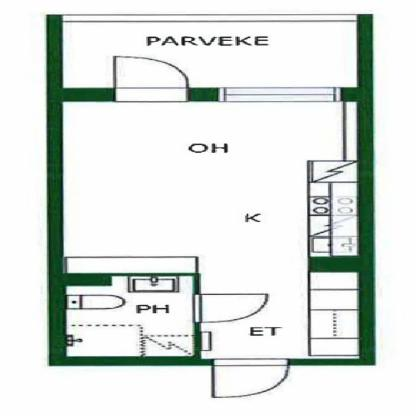door: (63, 100, 361, 359), (62, 22, 359, 88), (68, 276, 196, 358)
window: (110, 56, 191, 103), (208, 356, 294, 396), (192, 294, 273, 323)
zone: (218, 87, 340, 102)
